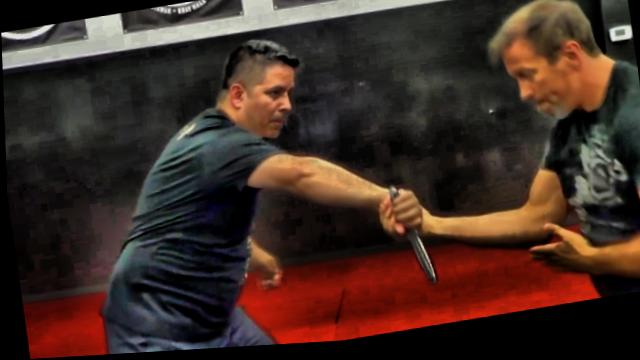knife: (378, 183, 441, 301)
